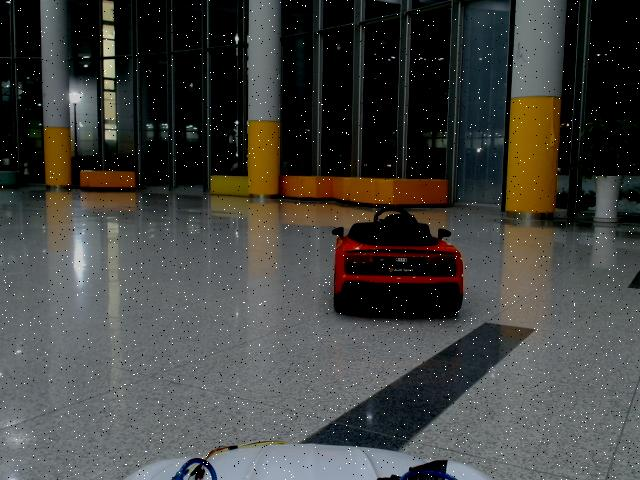car: (332, 206, 464, 315)
